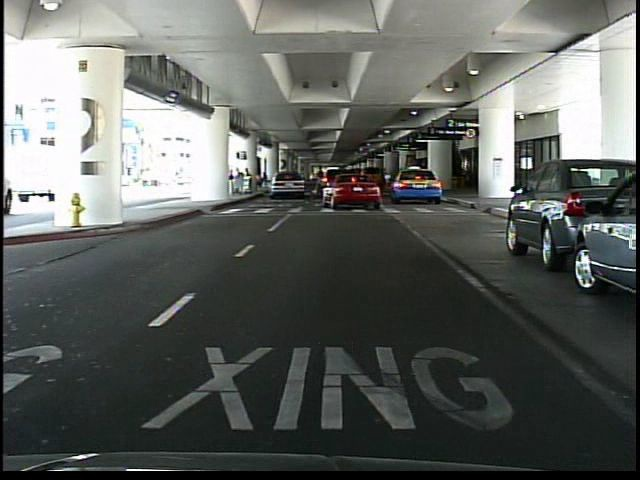person: (314, 165, 324, 198)
